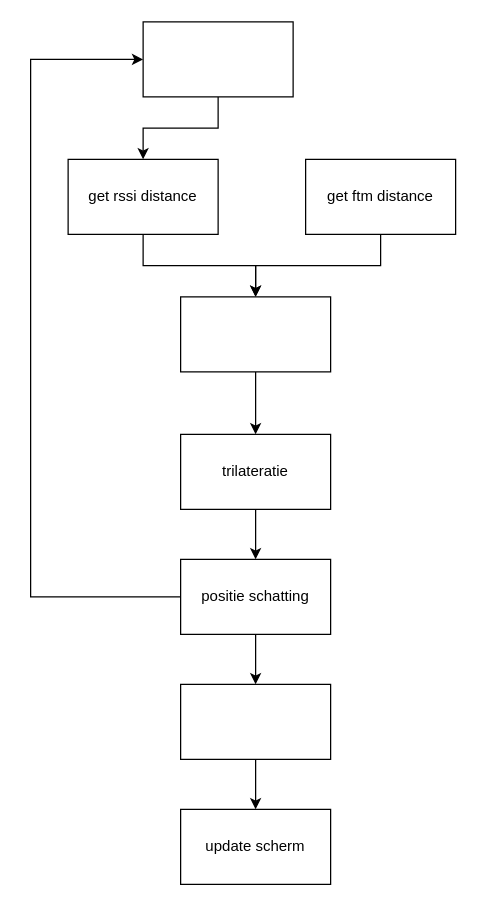
Some shapes in this 478 by 906 pixel diagram are drawn without their labels. Each missing label, with the box of its shape:
Kalman filter: (179, 296, 331, 372)
log data: (179, 683, 331, 759)
scan wifi networks: (142, 21, 293, 97)
